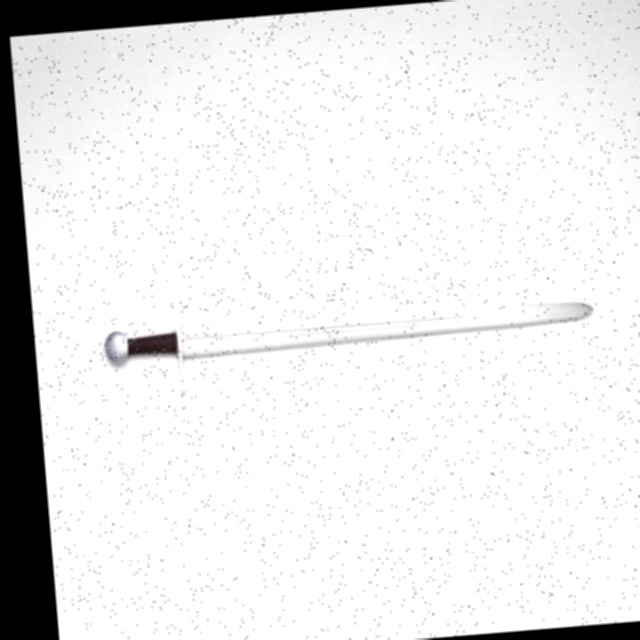Sharp-Object: (99, 290, 597, 368)
